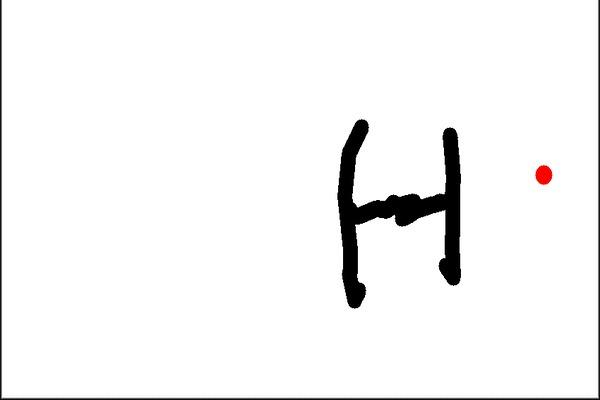H: (329, 110, 469, 310)
